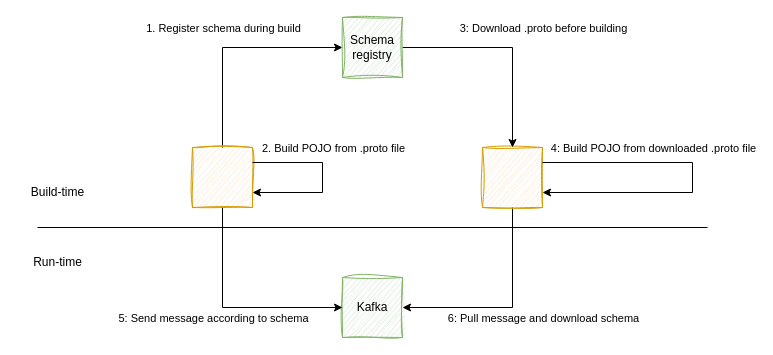
This 773x355 diagram has some shape labels left out. Each missing label, with the centre of its shape:
"Consumer" belongs at (512,177).
"Producer" belongs at (222,177).
